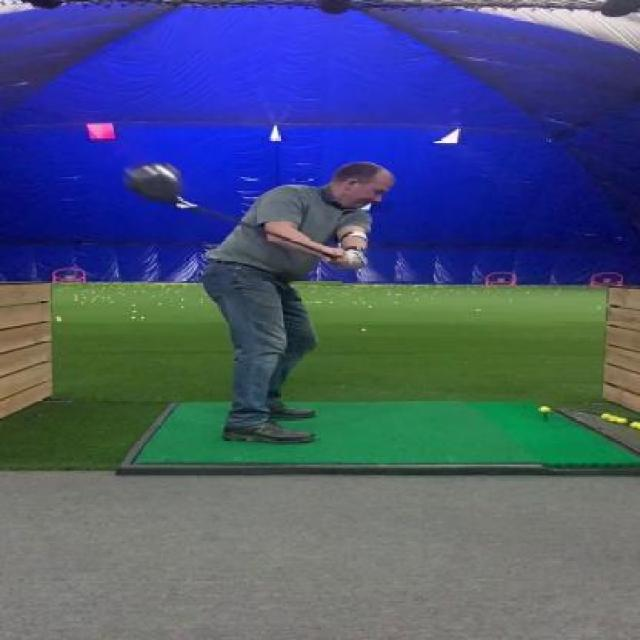club head: (120, 158, 192, 208)
